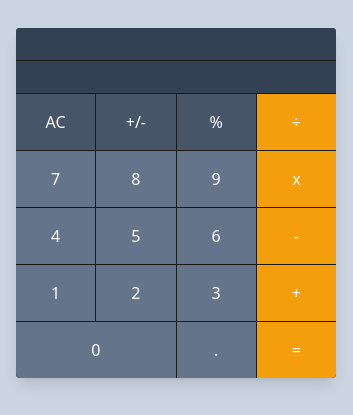
App › Button click has text rendered
The width and height of the screenshot is (353, 415).
What coordinates should you click on to do the following:
click the button with test id "1"
I would click on:
 (56, 293)
Its box is top-left (16, 265), bottom-right (95, 321).
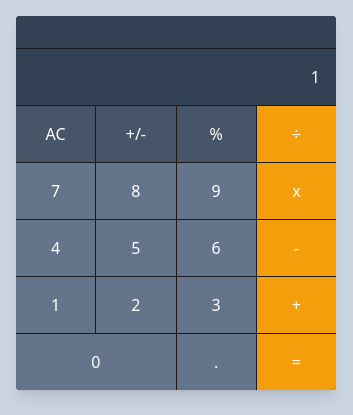
Check: the text with test id "current" reads "1", box top-left (311, 66), bottom-right (320, 88)
